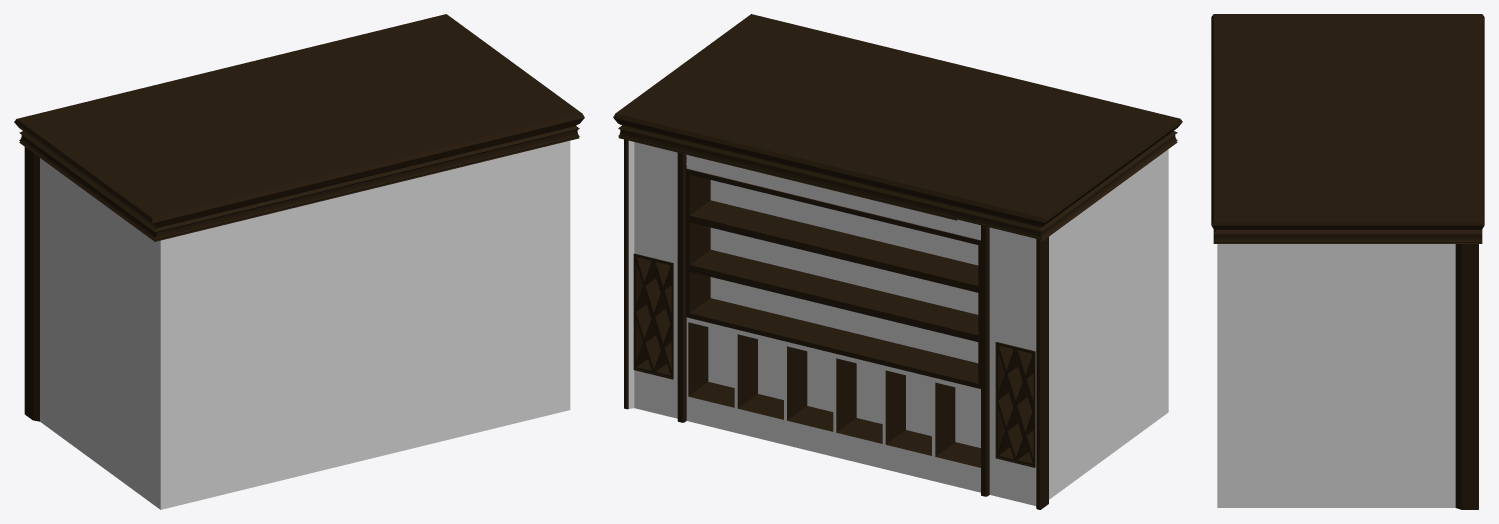
The model's file is Estantería.fbx.
3 renders of one model, left to right at view 1: azimuth 30°, elevation 25°; view 2: azimuth 150°, elevation 25°; view 3: azimuth 270°, elevation 25°, orthographic.
Visible parts, largest first — view 1: Cube.008; view 2: Cube.008; view 3: Cube.008.
Part boxes in pixels (x1=…): Cube.008: x1=14, y1=14, x2=584, y2=509; Cube.008: x1=613, y1=14, x2=1182, y2=509; Cube.008: x1=1211, y1=14, x2=1484, y2=509.
Bounding box in the file's own units: 289 × 189 × 160.
